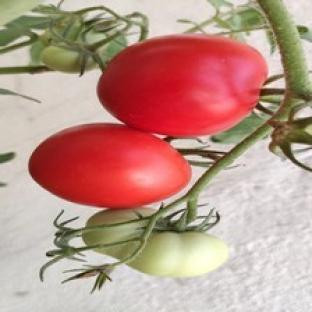Tomato: (98, 34, 267, 136), (30, 123, 190, 208), (127, 232, 228, 277), (41, 46, 96, 73)
